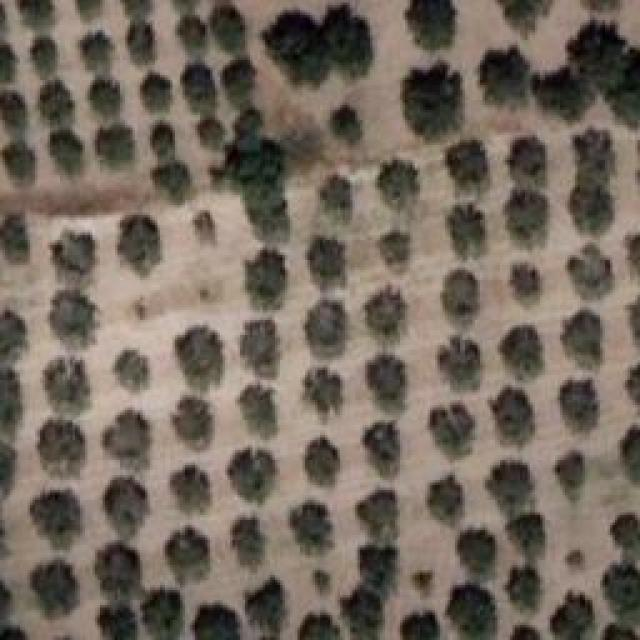Tree: (265, 10, 323, 84), (400, 70, 461, 130), (324, 3, 376, 70), (538, 73, 598, 123), (575, 22, 625, 82), (227, 118, 274, 179), (100, 475, 146, 537), (483, 50, 536, 103), (448, 585, 501, 637), (507, 193, 554, 248), (92, 543, 138, 599), (360, 428, 407, 482), (50, 290, 95, 346), (178, 324, 226, 376), (35, 560, 78, 617), (45, 356, 92, 408), (103, 413, 152, 462), (410, 0, 456, 51), (32, 493, 79, 542), (380, 158, 422, 212), (298, 497, 337, 554), (575, 130, 616, 184), (508, 140, 551, 190), (245, 185, 287, 236), (558, 383, 600, 434), (38, 425, 80, 475), (366, 360, 408, 410), (170, 528, 209, 580), (600, 558, 640, 608), (230, 525, 266, 580), (455, 140, 500, 184), (493, 463, 535, 510), (118, 218, 162, 262), (280, 125, 323, 170), (503, 327, 545, 373), (230, 443, 271, 490), (340, 588, 377, 640), (207, 0, 248, 46), (510, 570, 551, 616), (247, 252, 280, 309), (495, 393, 535, 440), (243, 323, 279, 375), (368, 292, 407, 339), (313, 235, 347, 287), (460, 533, 496, 582), (300, 438, 340, 482), (497, 0, 550, 33), (53, 232, 91, 278), (250, 582, 280, 640), (433, 403, 469, 451), (303, 303, 343, 346), (143, 590, 181, 635), (508, 515, 546, 559), (440, 275, 480, 316), (440, 343, 479, 385), (240, 390, 276, 435), (358, 490, 392, 537), (555, 597, 592, 640), (303, 370, 342, 410), (575, 185, 612, 227), (175, 398, 211, 441), (615, 54, 640, 115), (428, 478, 464, 520), (173, 468, 207, 512), (358, 548, 395, 588), (37, 80, 70, 124), (510, 258, 543, 302), (115, 350, 150, 391), (193, 605, 234, 640), (98, 123, 132, 165), (558, 453, 594, 492), (0, 373, 25, 428), (155, 163, 194, 198), (122, 23, 156, 63), (375, 233, 413, 268), (0, 215, 33, 255), (15, 0, 56, 32), (328, 105, 364, 140), (55, 128, 88, 166), (320, 175, 352, 214), (450, 205, 481, 245), (100, 605, 135, 640), (182, 60, 214, 98), (577, 250, 609, 288), (225, 60, 255, 100), (177, 13, 211, 48), (8, 145, 37, 186), (144, 123, 176, 160), (0, 90, 29, 130), (28, 35, 62, 69), (190, 120, 226, 152), (573, 318, 600, 357), (90, 75, 120, 110), (143, 72, 173, 106), (83, 35, 111, 71), (620, 428, 640, 478), (615, 510, 640, 548), (0, 315, 19, 361), (403, 612, 438, 634), (0, 44, 18, 84), (0, 442, 14, 489), (298, 622, 333, 640), (75, 0, 96, 24), (628, 370, 640, 411), (627, 240, 639, 273), (633, 293, 640, 343)
